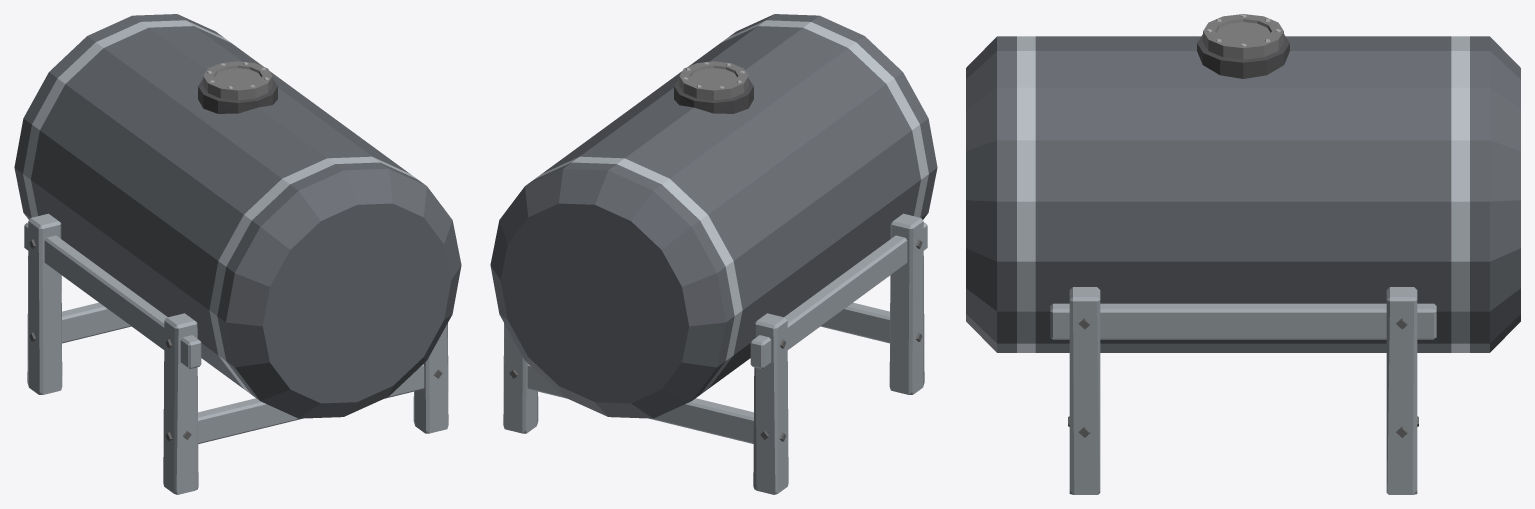
Rendered from SM_Gas_Tank.fbx.
The picture shows the model from 3 angles, left to right: view 1: azimuth 30°, elevation 25°; view 2: azimuth 150°, elevation 25°; view 3: azimuth 270°, elevation 25°; orthographic projection. The views are drawn at different scales.
Parts seen in each view (by area): view 1: SM_Gas_Tank_LOD0; view 2: SM_Gas_Tank_LOD0; view 3: SM_Gas_Tank_LOD0.
Boxes of the visible parts, bbox=[...] form: SM_Gas_Tank_LOD0: bbox=[14, 14, 461, 494]; SM_Gas_Tank_LOD0: bbox=[490, 14, 937, 494]; SM_Gas_Tank_LOD0: bbox=[966, 14, 1520, 494].
Size of the model in its own units: 258 by 385 by 297.
1 material, 1 textured.
